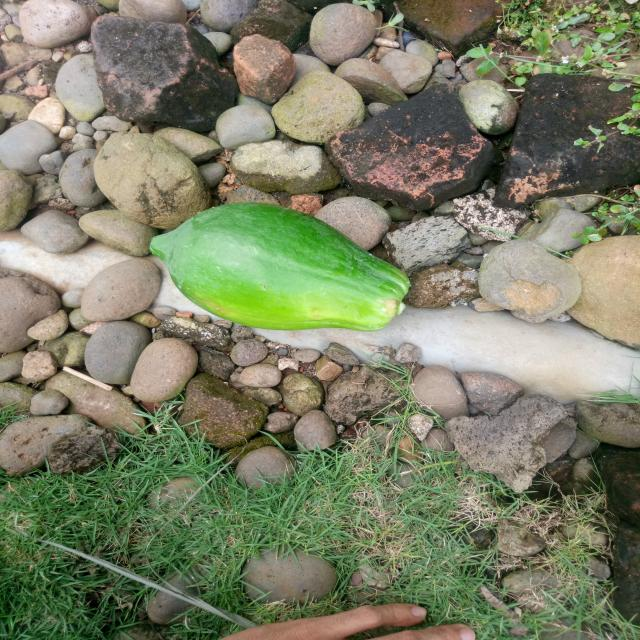Pepaya unrippen: (140, 200, 415, 339)
